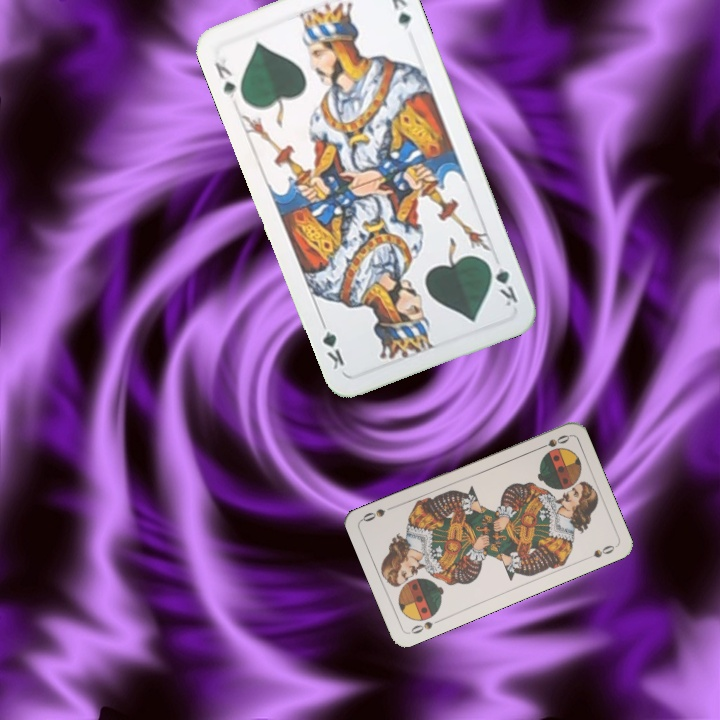GK: (483, 256, 521, 309), (210, 58, 239, 101)
SO: (533, 431, 572, 453), (405, 615, 444, 636)
